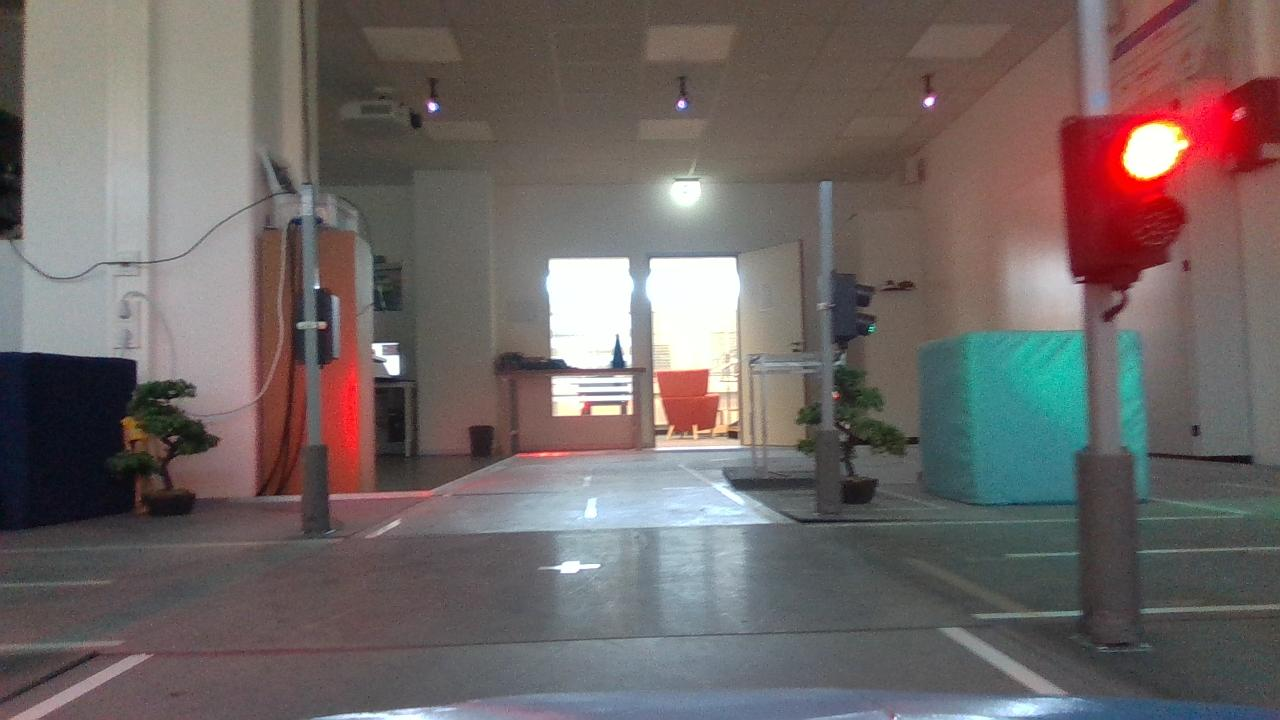traffic_light_red: (1043, 103, 1208, 301)
